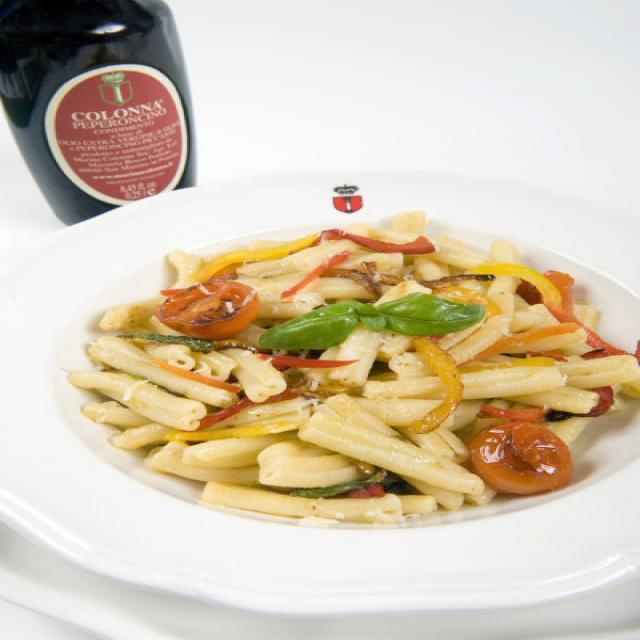Oil pasta: (91, 185, 640, 531)
